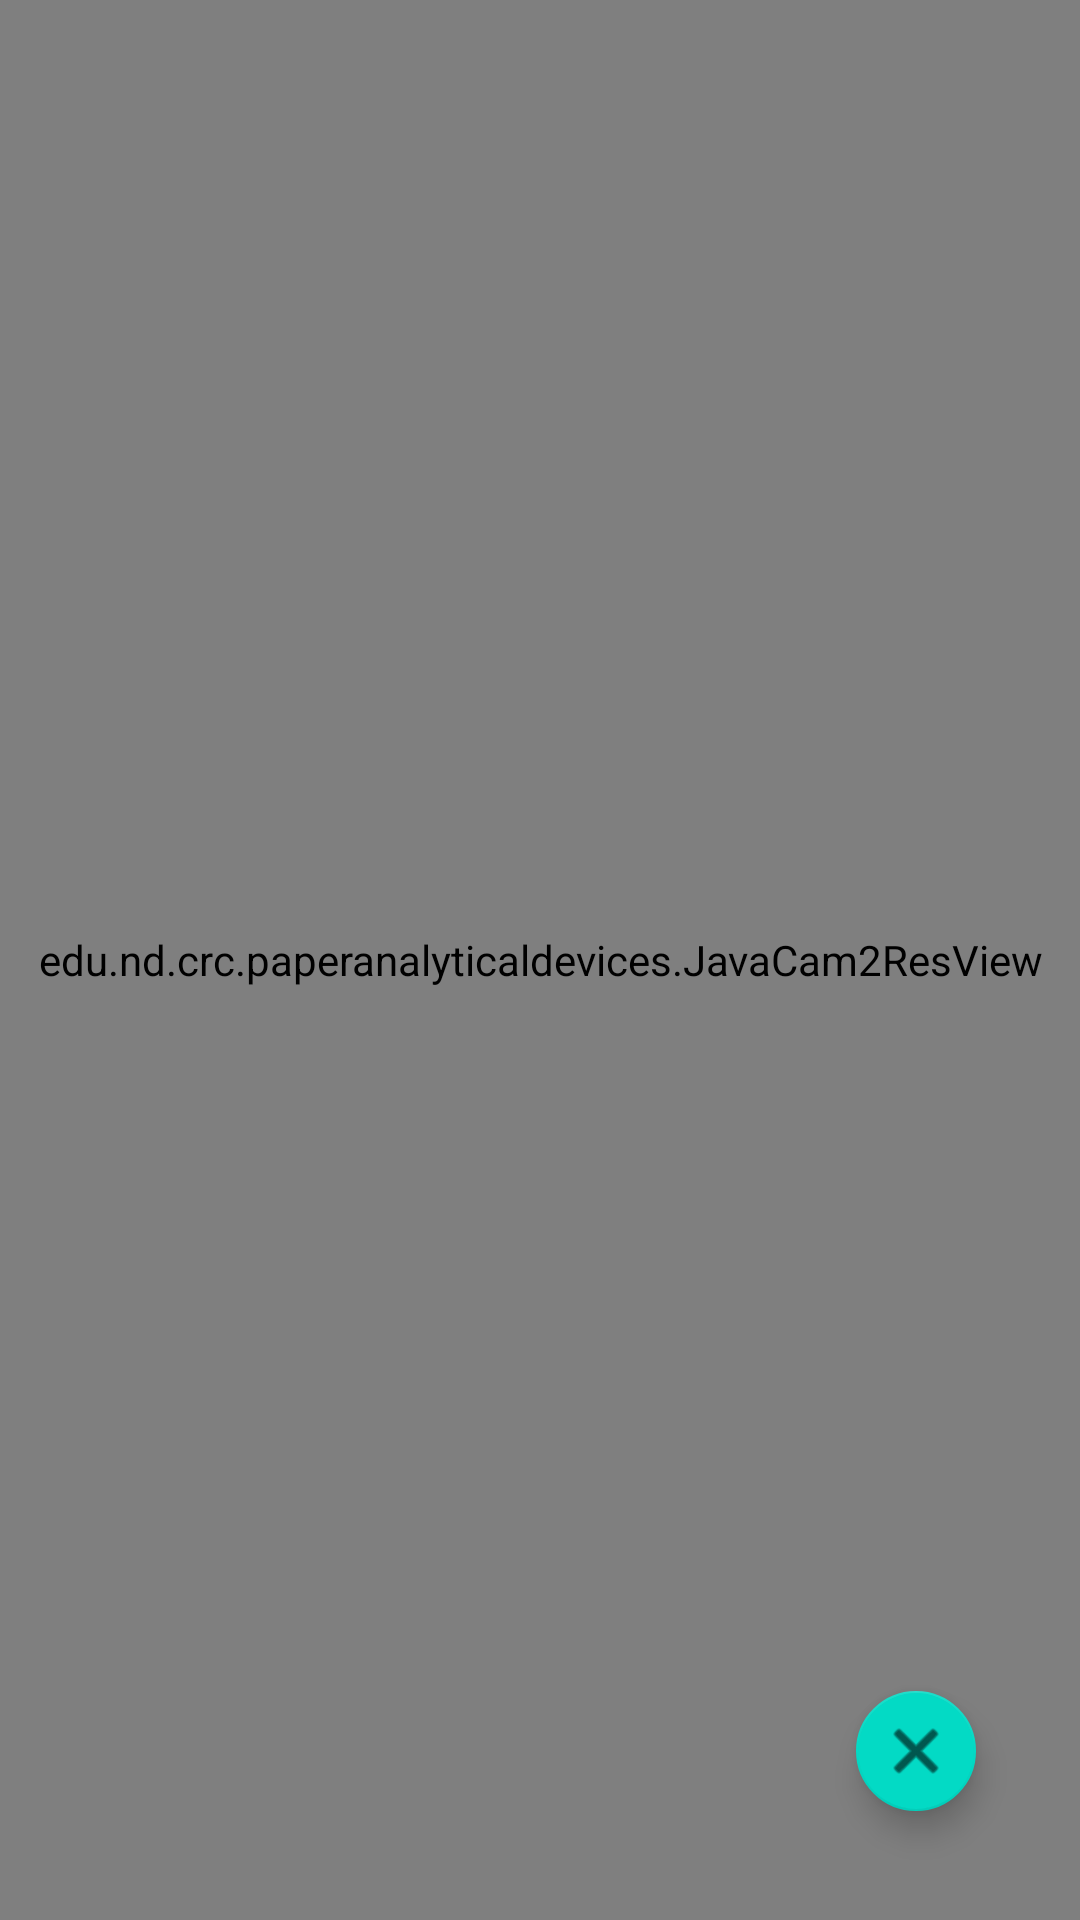

Icons on this 1080×1920 Android screen, each with the point to tap as (x,y):
close clear cancel: (916,1751)
